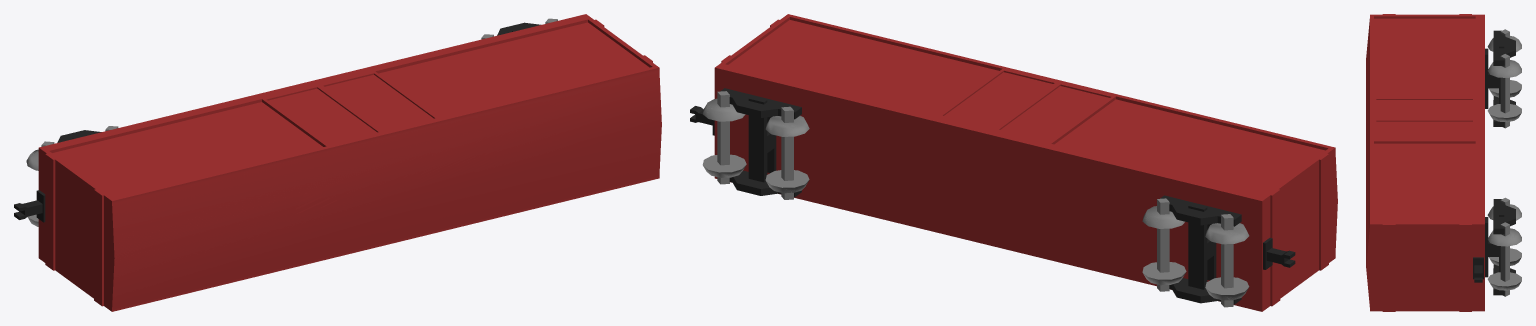
The model's file is box_car_55.6ft.dae.
The picture shows the model from 3 angles, left to right: view 1: azimuth 30°, elevation 25°; view 2: azimuth 150°, elevation 25°; view 3: azimuth 270°, elevation 25°; orthographic projection. The views are drawn at different scales.
Visible parts, largest first — view 1: coords_ME_ID190_MA_Box, coords_ME_ID204_MA_Box, coords_ME_ID65_MA_Door, coords_ME_ID73_MA_Door, coords_ME_ID79_MA_Door; view 2: coords_ME_ID190_MA_Box, coords_ME_ID204_MA_Box, coords_ME_ID65_MA_Door, coords_ME_ID73_MA_Door, coords_ME_ID44_MA_Frame, coords_ME_ID143_MA_Frame, coords_ME_ID79_MA_Door, coords_ME_ID149_MA_Frame, coords_ME_ID52_MA_Frame, coords_ME_ID124_MA_Wheels, coords_ME_ID118_MA_Wheels, coords_ME_ID19_MA_Wheels (+11 smaller); view 3: coords_ME_ID204_MA_Box, coords_ME_ID190_MA_Box, coords_ME_ID73_MA_Door, coords_ME_ID65_MA_Door, coords_ME_ID79_MA_Door, coords_ME_ID52_MA_Frame, coords_ME_ID149_MA_Frame, coords_ME_ID19_MA_Wheels, coords_ME_ID143_MA_Frame, coords_ME_ID118_MA_Wheels, coords_ME_ID44_MA_Frame, coords_ME_ID5_MA_Wheels (+11 smaller).
Boxes of the visible parts, x1=… form: coords_ME_ID190_MA_Box: x1=38, y1=14, x2=661, y2=311; coords_ME_ID204_MA_Box: x1=49, y1=19, x2=652, y2=198; coords_ME_ID65_MA_Door: x1=323, y1=73, x2=434, y2=130; coords_ME_ID73_MA_Door: x1=266, y1=87, x2=378, y2=144; coords_ME_ID79_MA_Door: x1=262, y1=71, x2=439, y2=146; coords_ME_ID190_MA_Box: x1=714, y1=14, x2=1337, y2=311; coords_ME_ID204_MA_Box: x1=725, y1=17, x2=1328, y2=195; coords_ME_ID65_MA_Door: x1=943, y1=70, x2=1054, y2=127; coords_ME_ID73_MA_Door: x1=999, y1=84, x2=1110, y2=141; coords_ME_ID44_MA_Frame: x1=748, y1=96, x2=776, y2=182; coords_ME_ID143_MA_Frame: x1=1188, y1=203, x2=1216, y2=289; coords_ME_ID79_MA_Door: x1=938, y1=69, x2=1115, y2=144; coords_ME_ID149_MA_Frame: x1=1160, y1=195, x2=1241, y2=226; coords_ME_ID52_MA_Frame: x1=720, y1=88, x2=801, y2=119; coords_ME_ID124_MA_Wheels: x1=1221, y1=214, x2=1233, y2=307; coords_ME_ID118_MA_Wheels: x1=1157, y1=198, x2=1169, y2=291; coords_ME_ID19_MA_Wheels: x1=717, y1=91, x2=729, y2=184; coords_ME_ID204_MA_Box: x1=1374, y1=16, x2=1475, y2=222; coords_ME_ID190_MA_Box: x1=1366, y1=14, x2=1484, y2=311; coords_ME_ID73_MA_Door: x1=1376, y1=99, x2=1472, y2=118; coords_ME_ID65_MA_Door: x1=1376, y1=120, x2=1472, y2=139; coords_ME_ID79_MA_Door: x1=1374, y1=97, x2=1475, y2=143; coords_ME_ID52_MA_Frame: x1=1493, y1=199, x2=1515, y2=234; coords_ME_ID149_MA_Frame: x1=1493, y1=30, x2=1515, y2=65; coords_ME_ID19_MA_Wheels: x1=1500, y1=222, x2=1509, y2=296; coords_ME_ID143_MA_Frame: x1=1485, y1=40, x2=1504, y2=108; coords_ME_ID118_MA_Wheels: x1=1500, y1=54, x2=1509, y2=128; coords_ME_ID44_MA_Frame: x1=1485, y1=209, x2=1504, y2=277; coords_ME_ID5_MA_Wheels: x1=1487, y1=272, x2=1521, y2=290.
Size of the model in its own units: 169 by 29.9 by 48.53.
